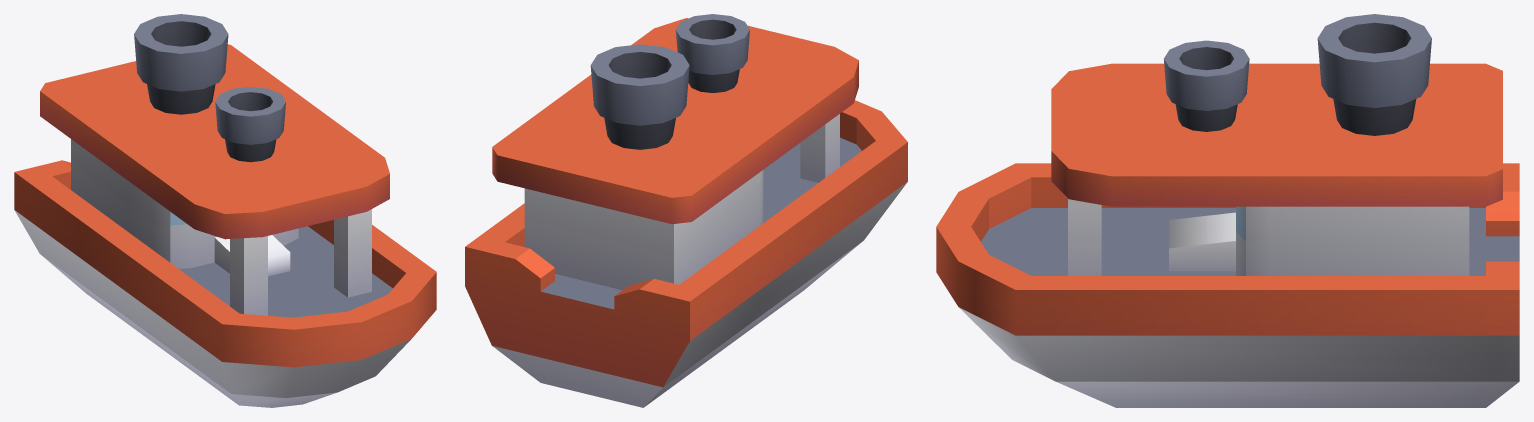
Rendered from boat-tug-a-transformed-transformed.glb.
3 views of the same model, side by side, from view 1: azimuth 30°, elevation 25°; view 2: azimuth 150°, elevation 25°; view 3: azimuth 270°, elevation 25° (orthographic). The views are drawn at different scales.
Visible parts, largest first — view 1: boat-tug-a; view 2: boat-tug-a; view 3: boat-tug-a.
Boxes of the visible parts, x1=… form: boat-tug-a: x1=14, y1=14, x2=436, y2=407; boat-tug-a: x1=465, y1=14, x2=907, y2=407; boat-tug-a: x1=936, y1=14, x2=1519, y2=407.
Size of the model in its own units: 1.79 by 2.24 by 3.47.
1 material, 1 textured.
